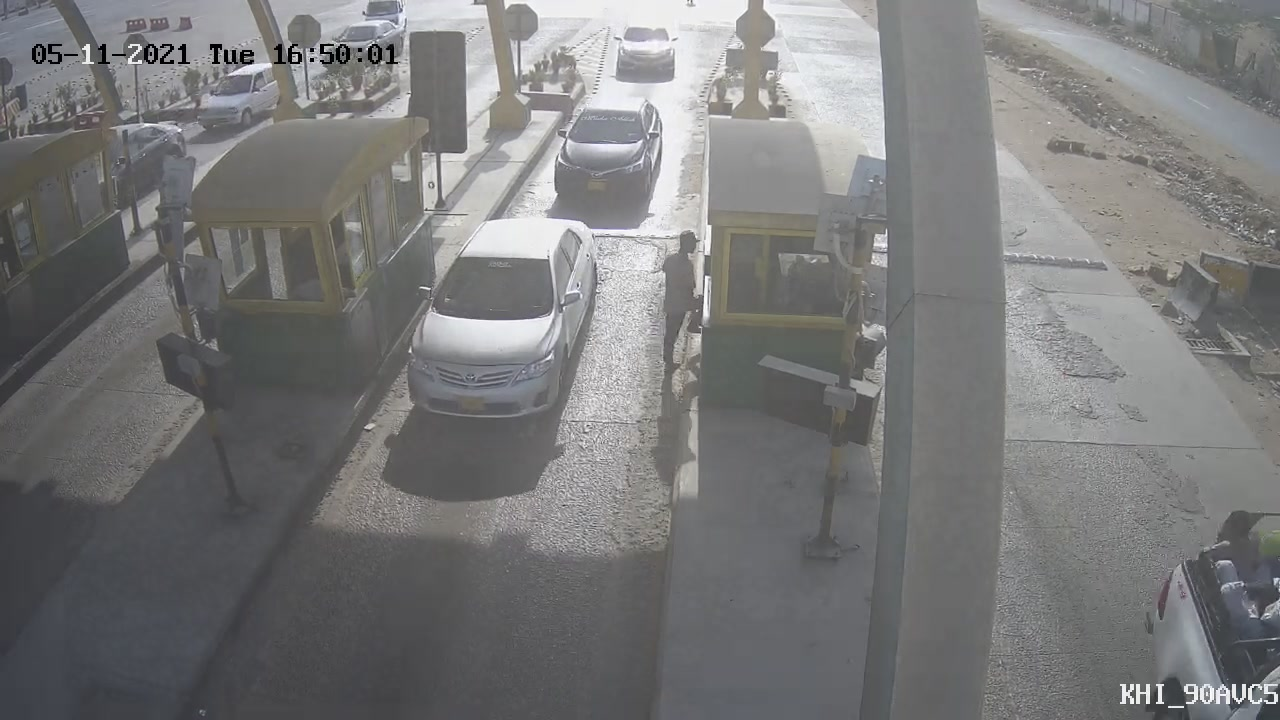F1: (382, 201, 630, 438), (531, 78, 681, 220)
